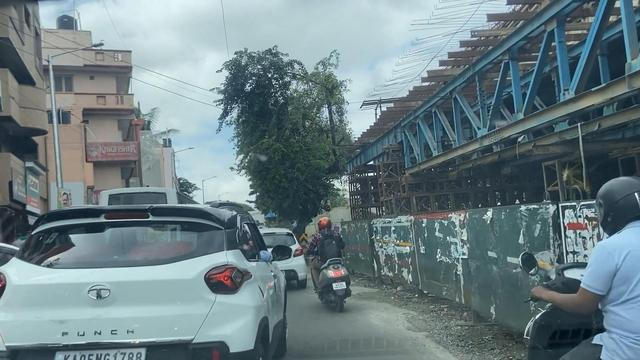LMV: (0, 214, 247, 360), (303, 223, 352, 309)
